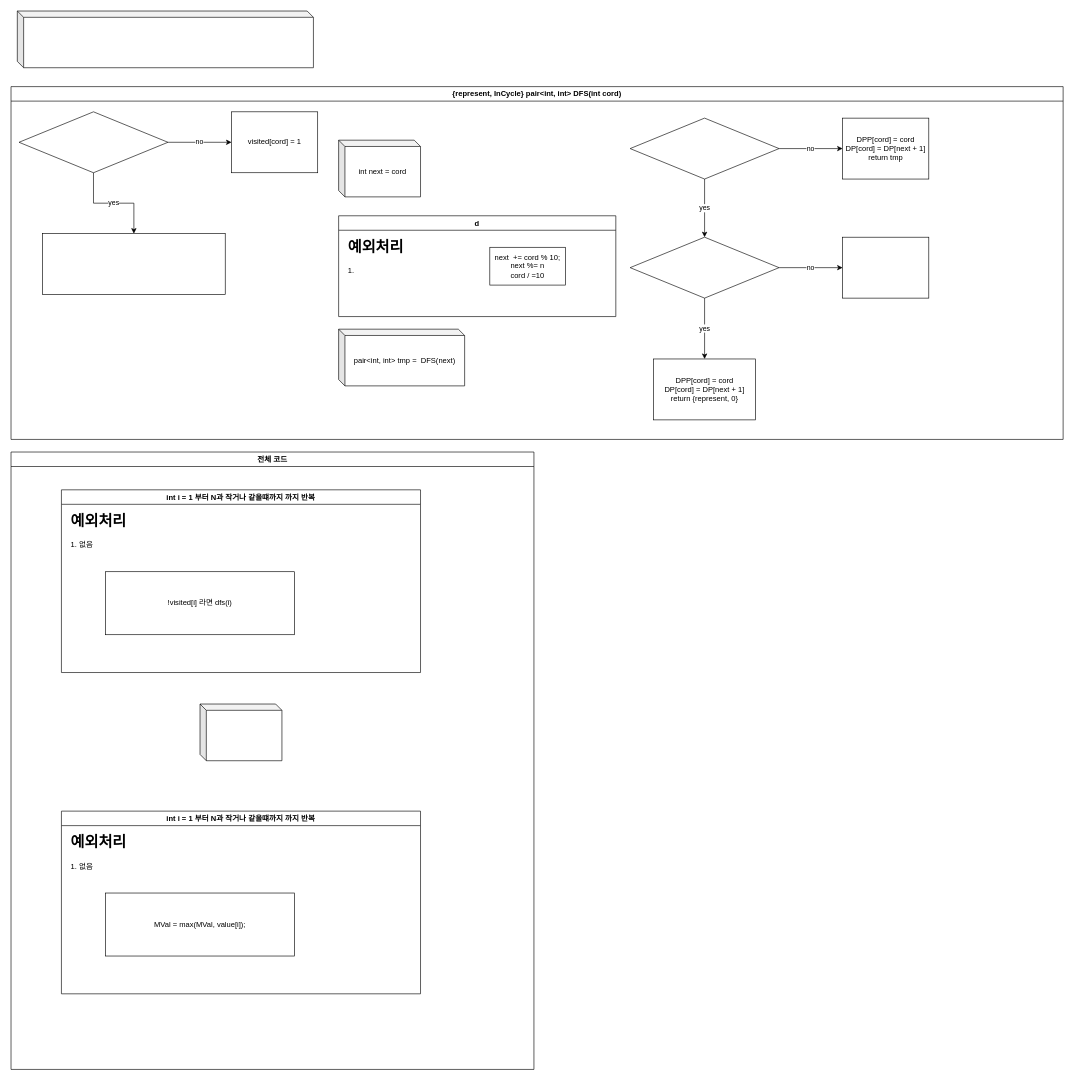
Some shapes in this 1074 by 1080 pixel diagram are drawn without their labels. The box of each missing label's shape, as (x1, y1, x2, y2) in pixels:
DPP[cord] = tmp.first DP[tmp.first]++; return tmp: (842, 237, 929, 298)
DPP[cord]가 비어있다면 DPP[cord] = cord DP[cord]++; return {cord, 1}: (42, 233, 225, 295)
int MVal = 0: (199, 703, 282, 761)
int n visited<int> visited vector<int> DP vector<int> DPP;: (17, 10, 313, 68)
next == tmp.first 인가: (629, 237, 779, 298)
tmp.second 가 1인가: (629, 117, 779, 179)
visited[cord]가 참인가: (18, 111, 168, 173)
